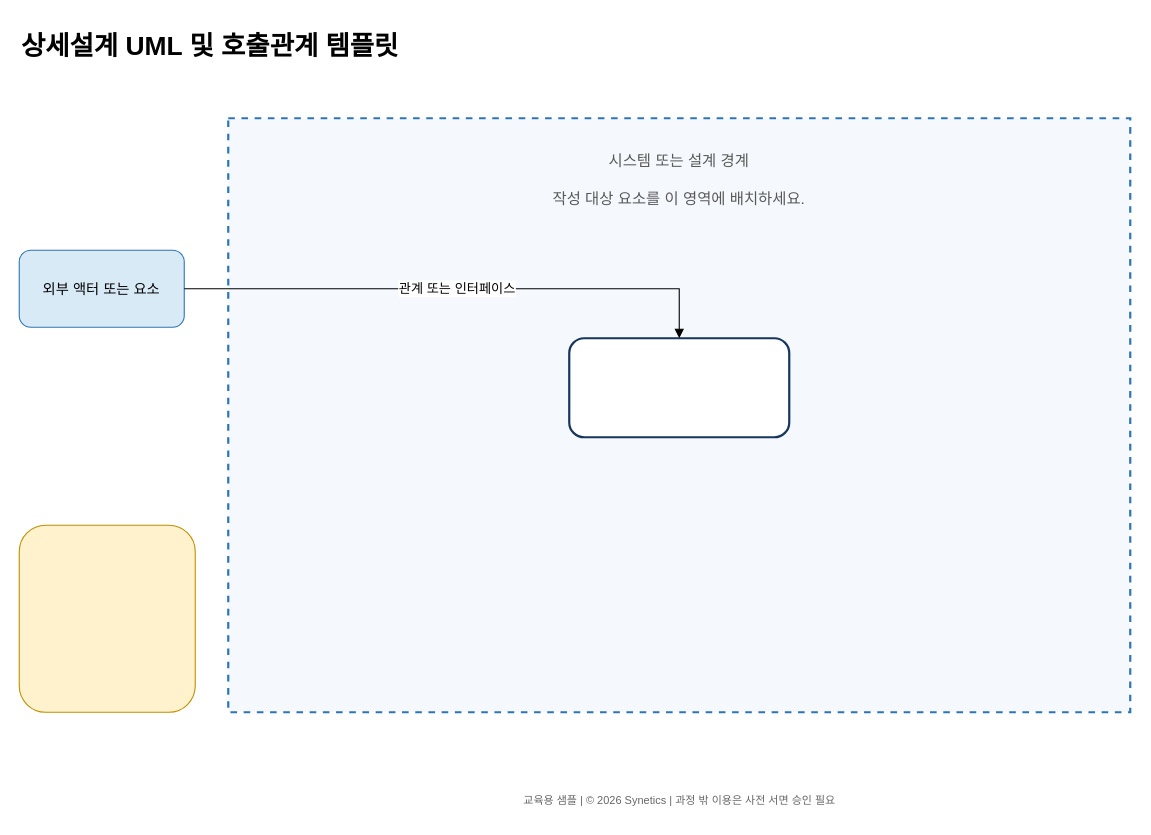
This 1151x835 diagram has some shape labels left out. The shapes that lost their labels are listed below. From the top down, each one's centre as x and y in pixels, then its label:
At point (679, 387): "대상 요소 ID 요소 명칭".
At point (106, 618): "작성 안내 1. 구현 단위와 책임 2. 함수 또는 클래스 호출 3. 입력 출력 자료형 4. 설계 및 시험 추적 ID".
